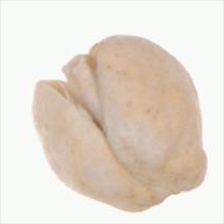L3: (33, 39, 110, 130)
L4: (33, 35, 208, 214)
